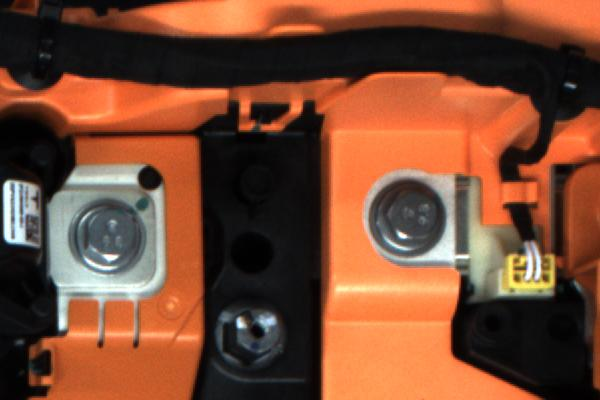nut_b: (64, 195, 147, 276), (370, 180, 443, 262)
